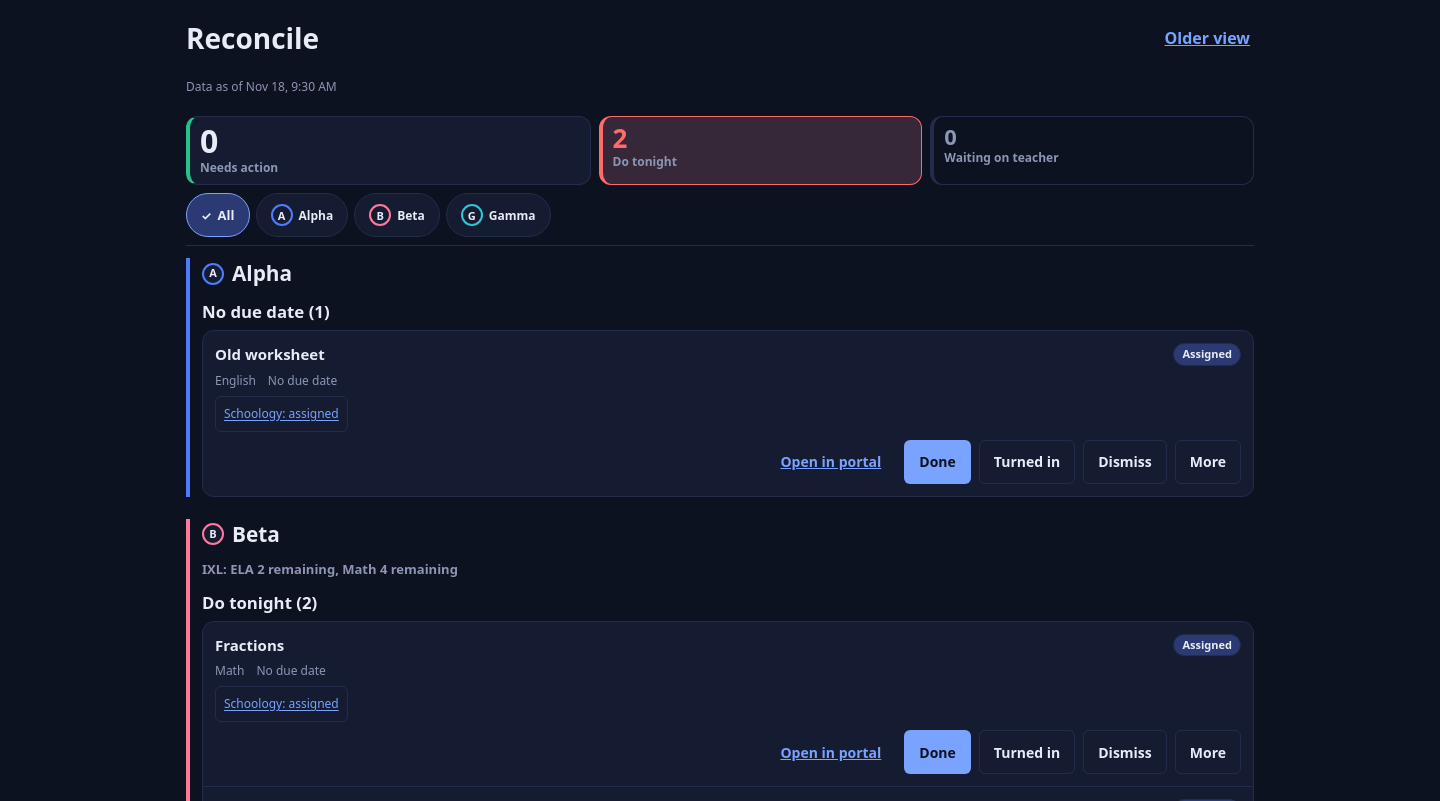
Test: undated assignments have their own group and can be dismissed and undone after refetch
Expected: the heading "Alpha" is shown, [232,258,292,289]
Expected: the element "Old worksheet" is shown, [203,331,1253,496]
Click the button with aria-label "Dismiss Old worksheet (English, Alpha)" at {"x": 1125, "y": 462}, box [1083,440,1167,484]
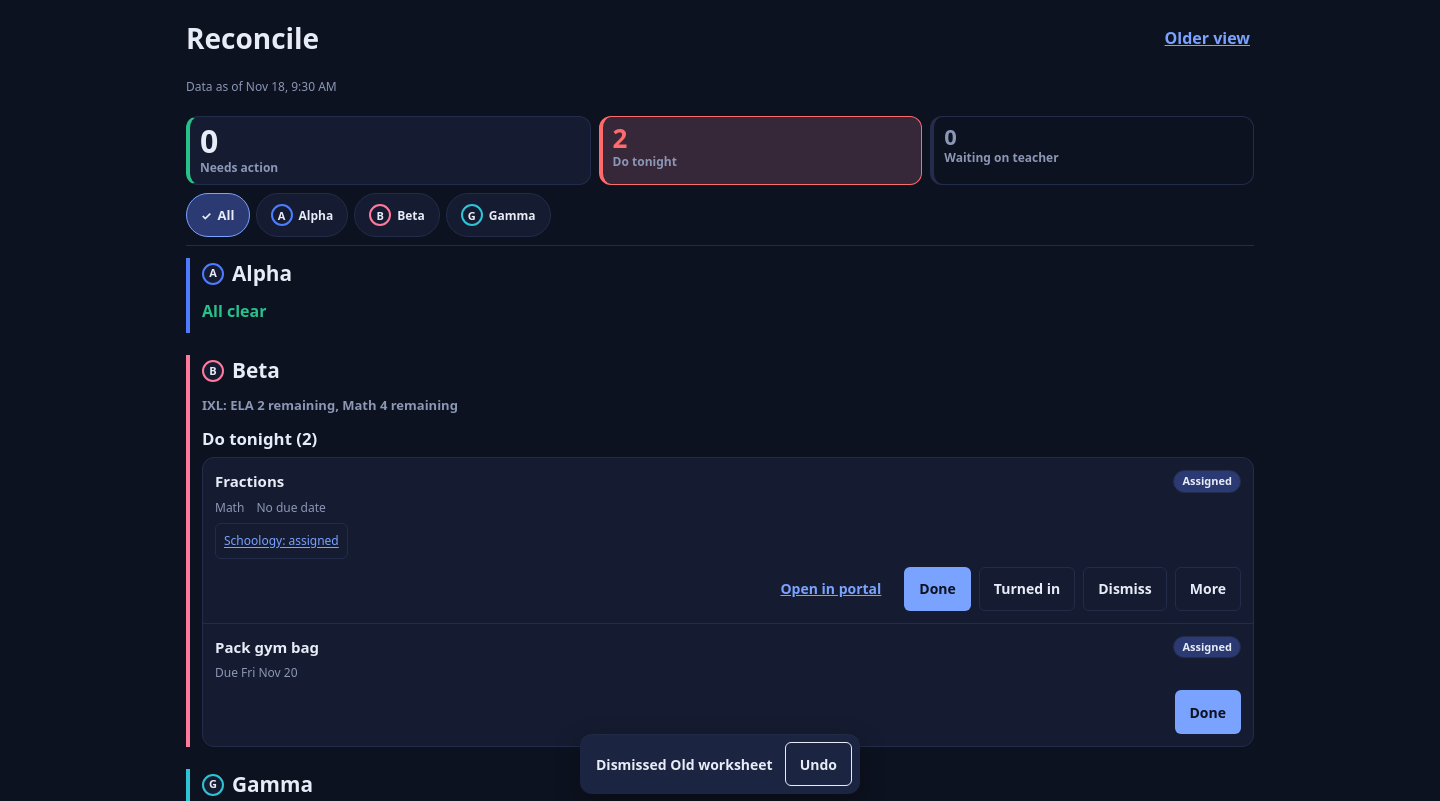
Result: the text "Dismissed Old worksheet" is shown at [596,754,773,774]
Click the button "Undo" at {"x": 818, "y": 764}, box [785,742,852,786]
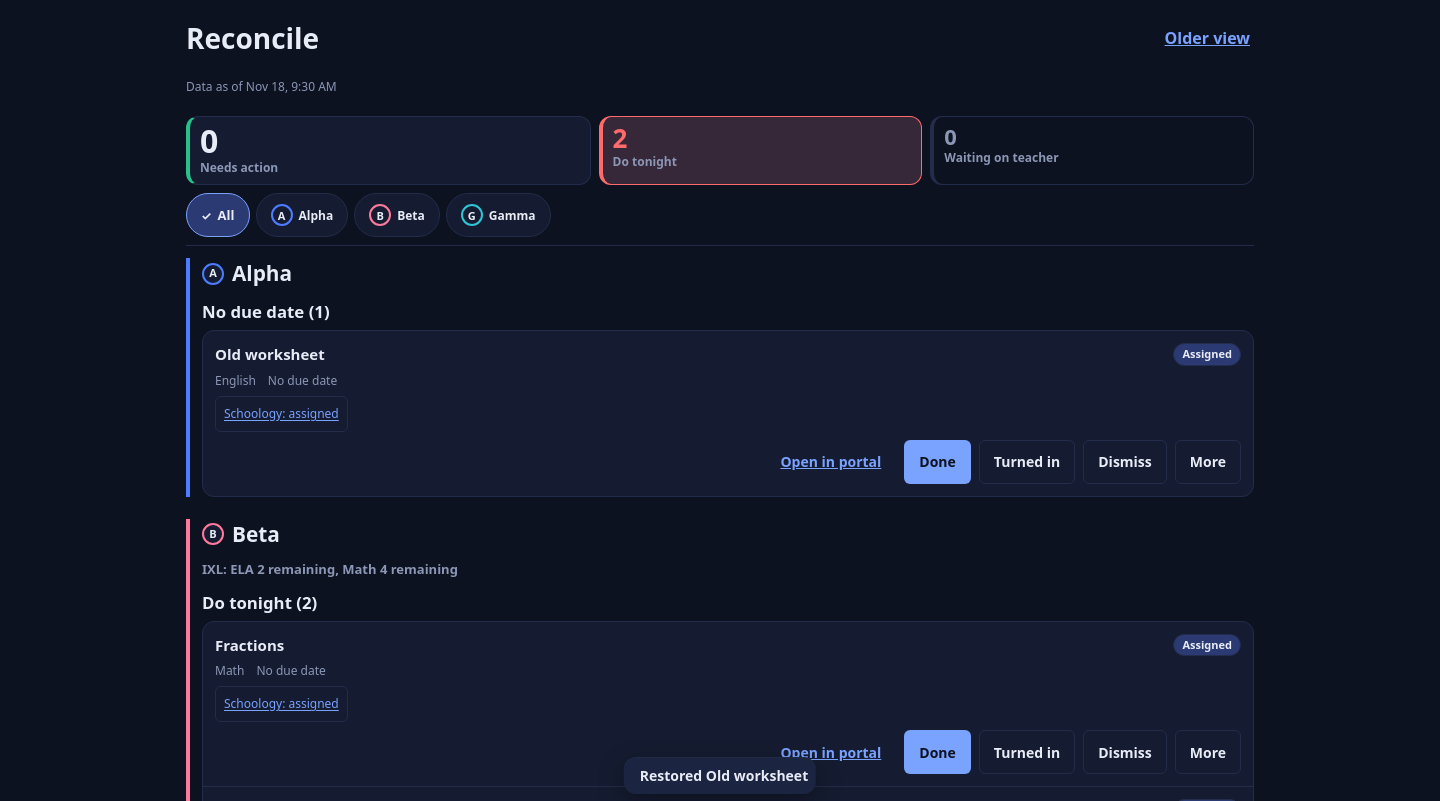
Expected: the button "2 Do tonight" is shown, [599,116,922,185]
Result: the text "Restored Old worksheet" is shown at [640,765,808,786]
Result: the element "Old worksheet" is shown at [203,331,1253,496]
